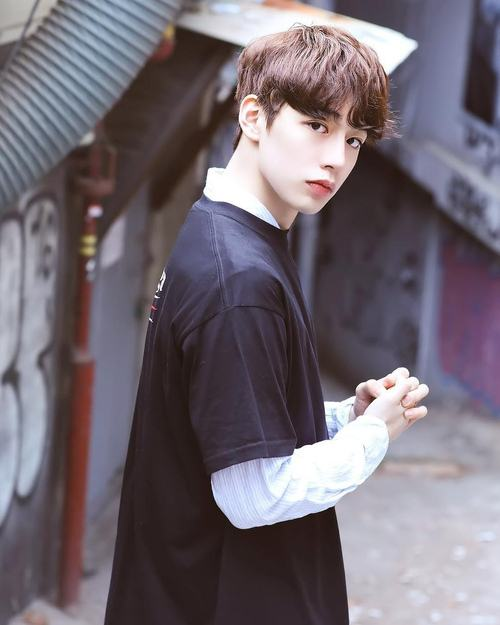person: (112, 33, 451, 565)
